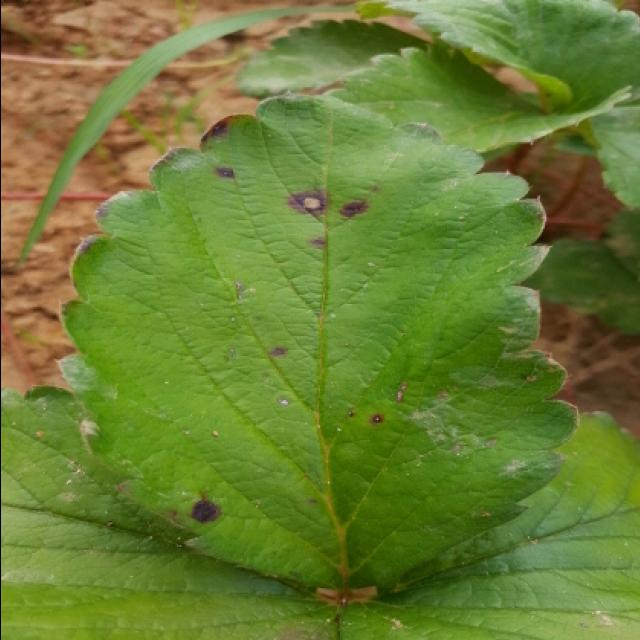Leaf Spot: (58, 93, 582, 600), (2, 385, 336, 638), (338, 408, 640, 638)
